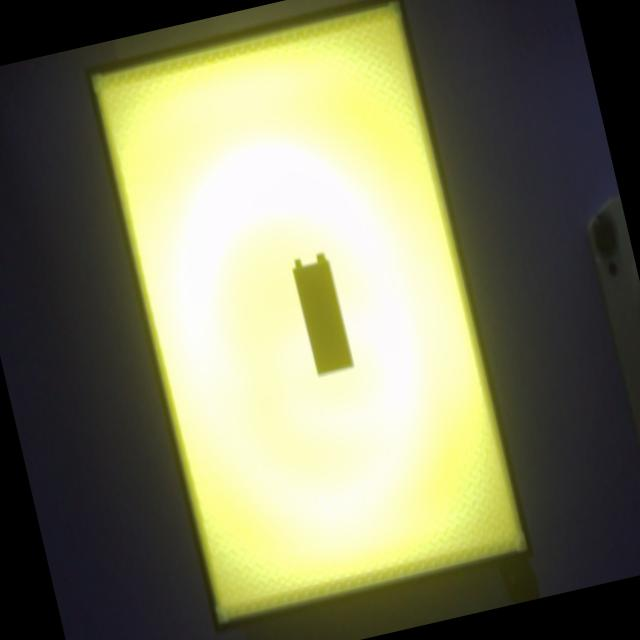Bateria: (292, 261, 353, 374)
Mesa: (84, 0, 533, 632)
Pestana: (316, 252, 325, 262), (294, 258, 302, 266)
